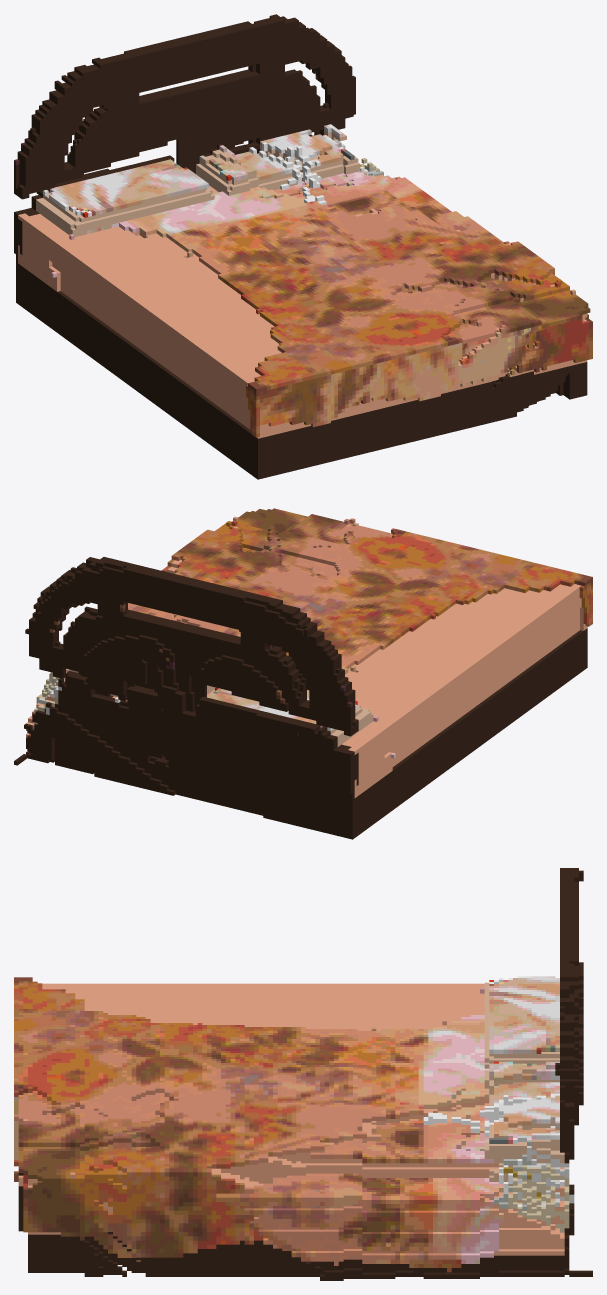
File: beda0.vox.obj
3 views of the same model, one above another, from view 1: azimuth 30°, elevation 25°; view 2: azimuth 150°, elevation 25°; view 3: azimuth 270°, elevation 25° (orthographic). The views are drawn at different scales.
Bounding box in the file's own units: 10 × 6 × 12.3.
Materials: 1 (1 with a texture image).
